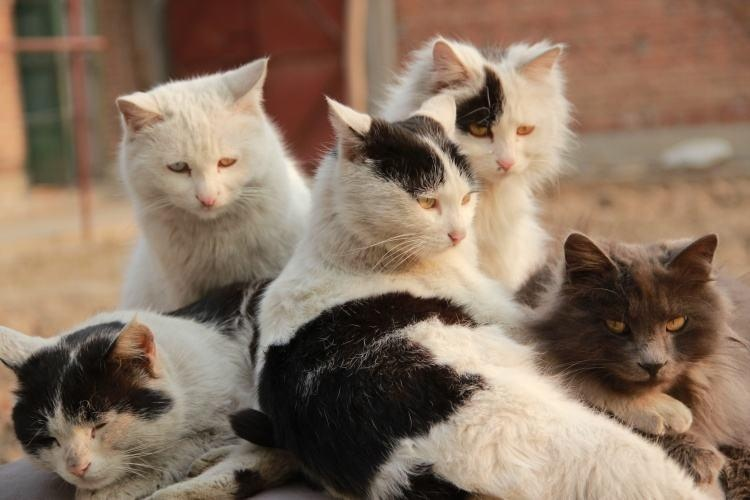cat: (256, 92, 710, 500), (1, 270, 271, 500), (376, 36, 579, 288), (119, 55, 314, 314), (552, 232, 750, 448)
